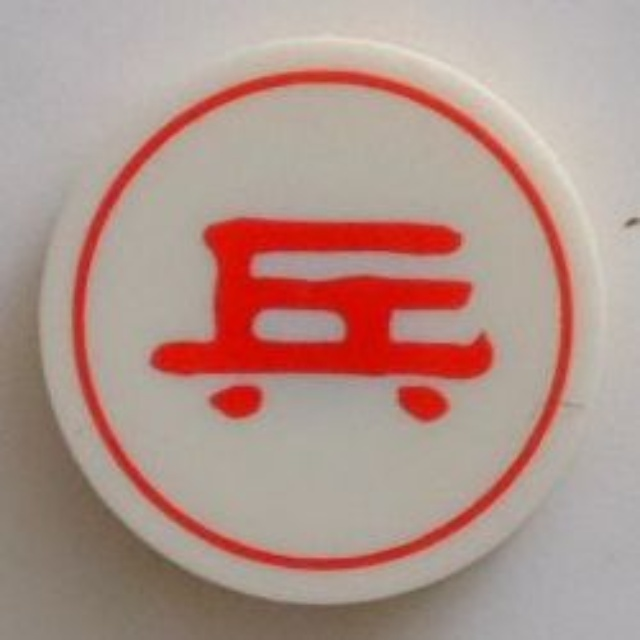red_chot: (38, 32, 620, 608)
